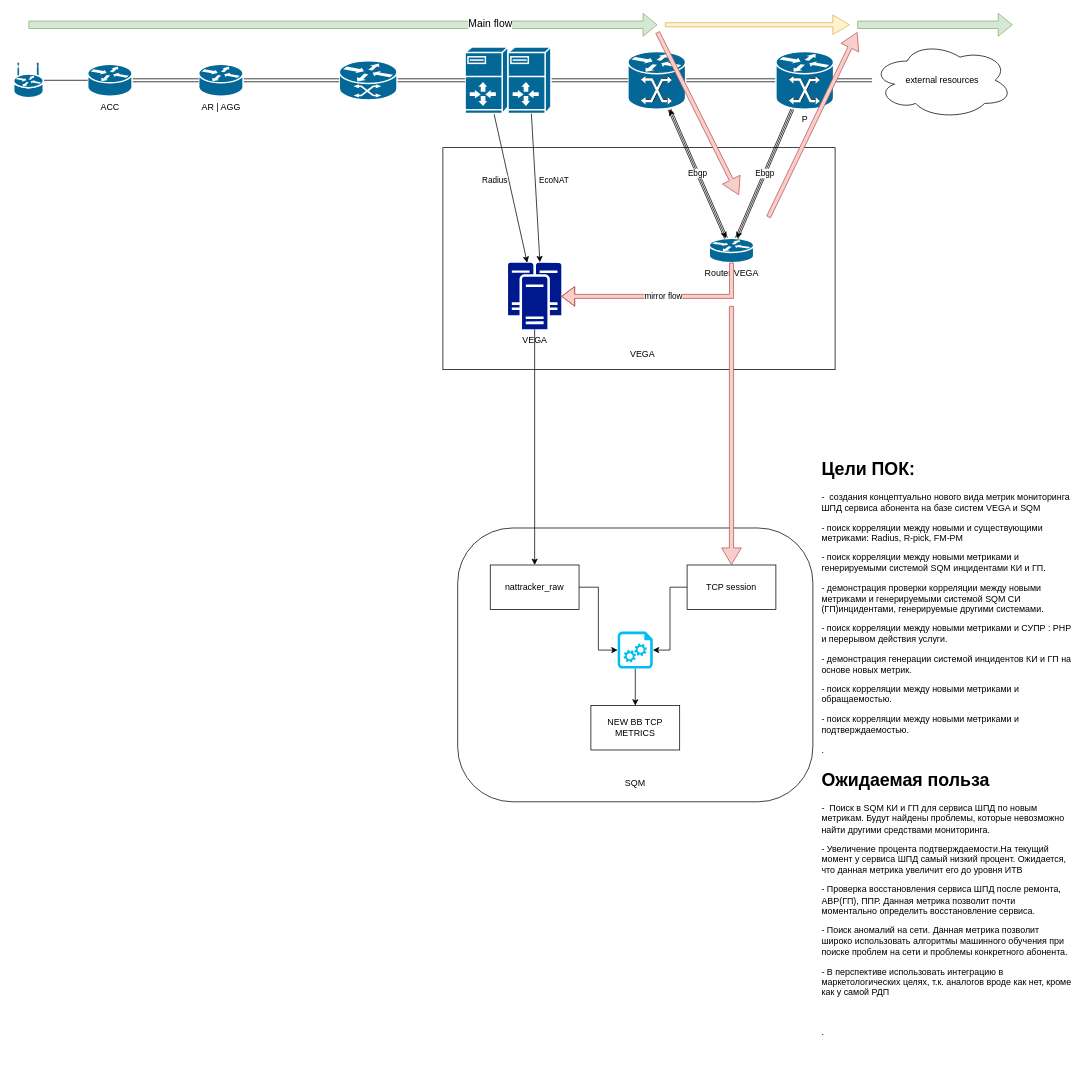
The diagram is 1084 pixels wide and 1083 high, and some of its shapes have lost their labels. Here are the shapes that lost their labels. From the top down, the centre of each, then its label:
[28,80]: CPE
[367,80]: DR
[486,80]: BRAS
[529,80]: NAT
[656,80]: PE
